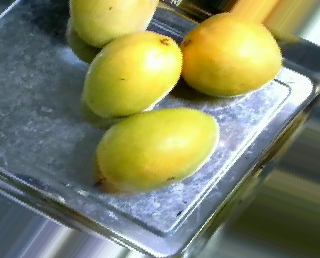Mango: (94, 107, 224, 195), (175, 6, 288, 101), (74, 31, 184, 115), (65, 1, 161, 50)
